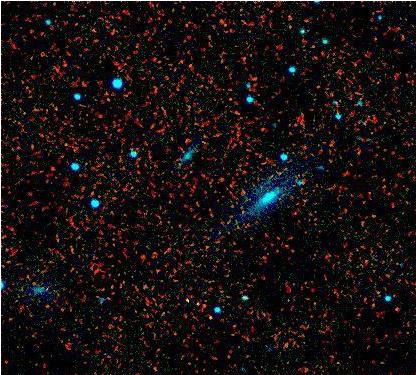star: (166, 150, 196, 180)
